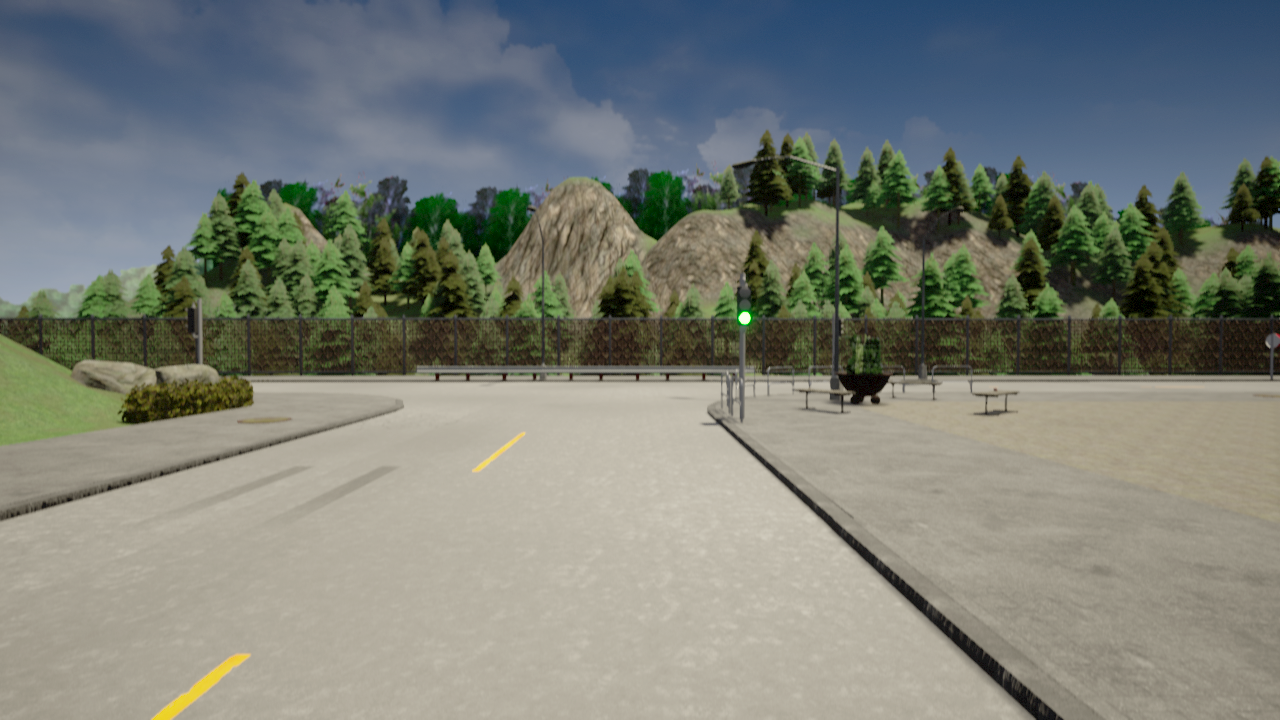green: (736, 283, 752, 326)
